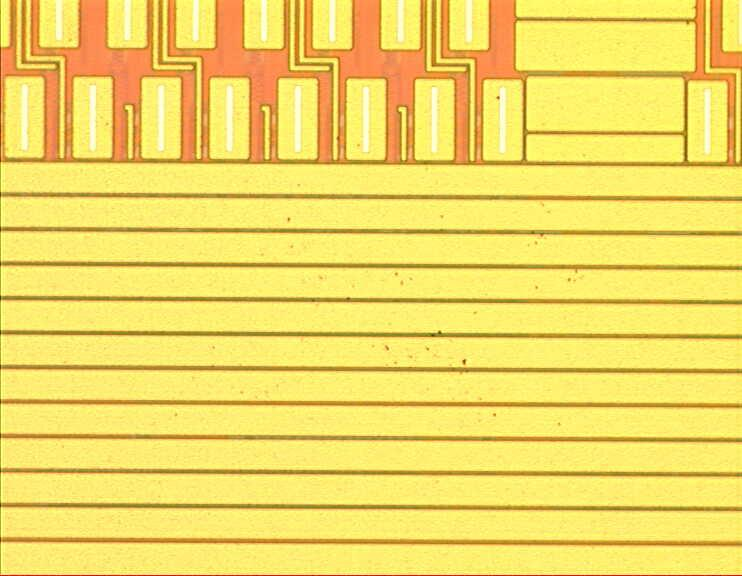PO CONTAMINATION: (67, 85, 599, 440)
